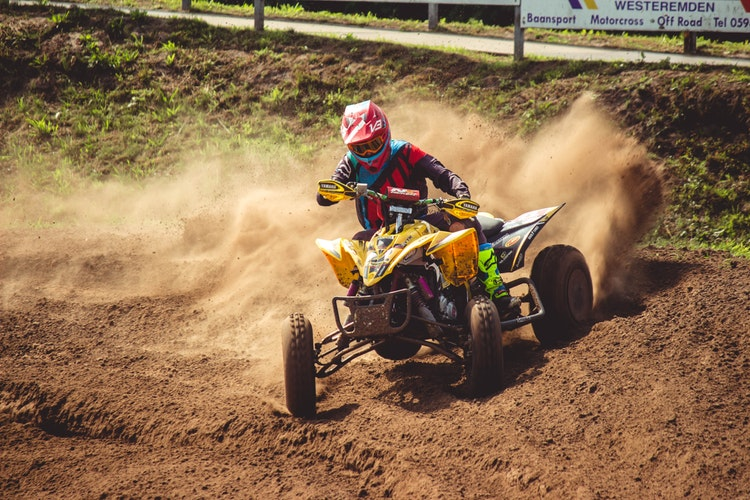helmet: (337, 98, 396, 166)
